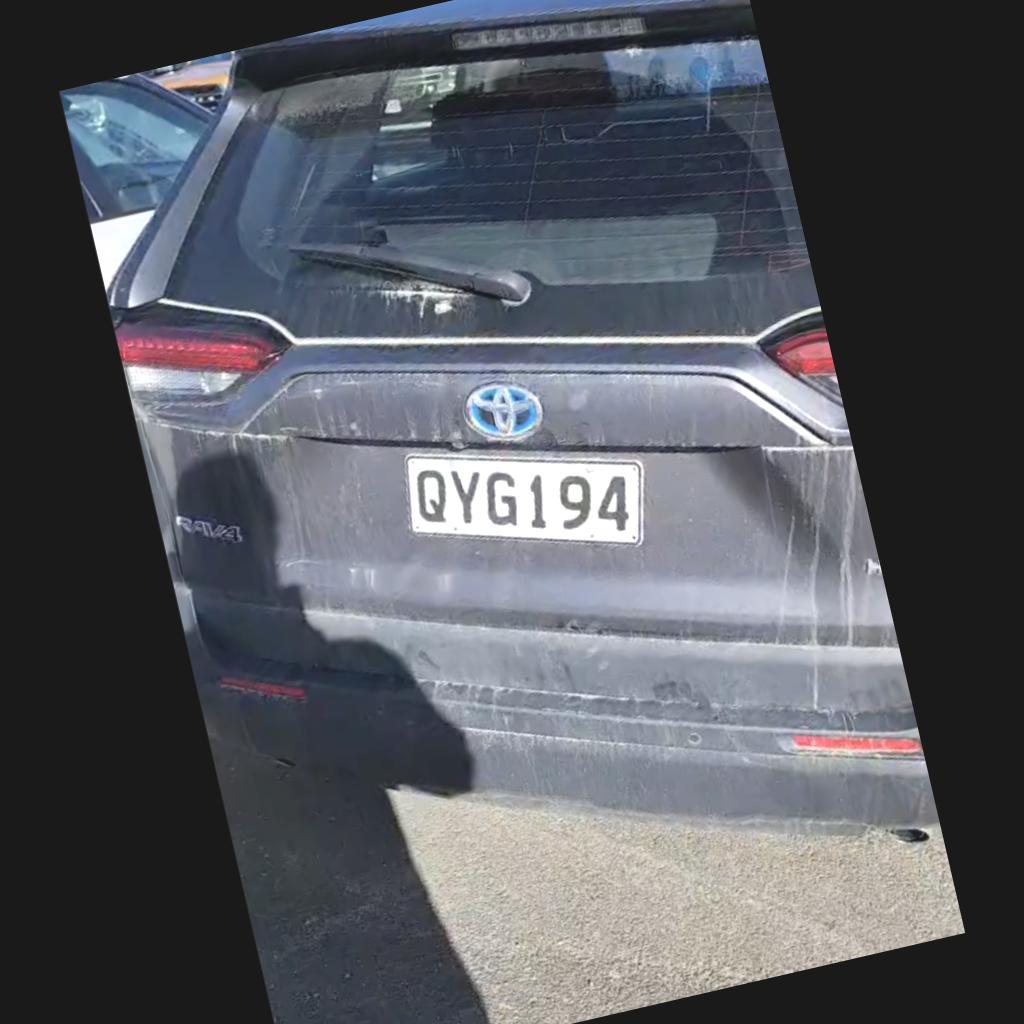Number-Plates: (388, 446, 661, 566)
